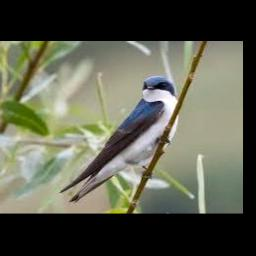Swallow: (60, 75, 179, 203)
